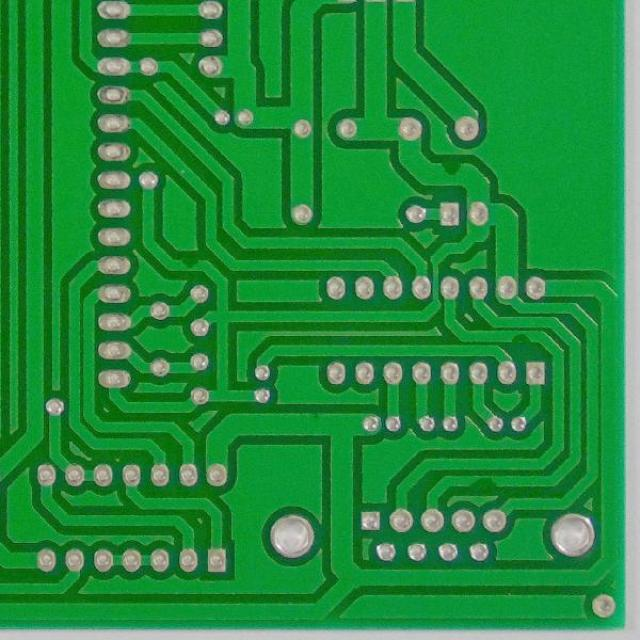MouseBite: (464, 470, 501, 492), (506, 328, 536, 346), (435, 159, 466, 176), (177, 255, 203, 272)
